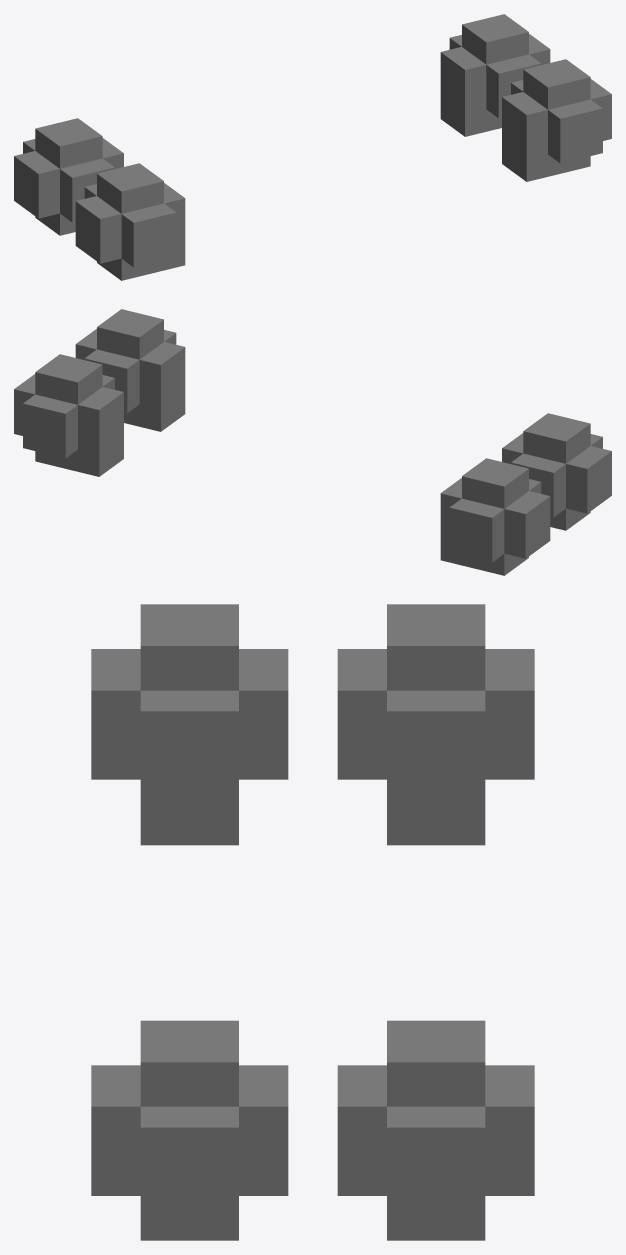
File: Extra-2-Warship_SmallShafts.obj
3 renders of one model, top to bottom at view 1: azimuth 30°, elevation 25°; view 2: azimuth 150°, elevation 25°; view 3: azimuth 270°, elevation 25°, orthographic. The views are drawn at different scales.
Parts seen in each view (by area): view 1: Warship_SmallShafts; view 2: Warship_SmallShafts; view 3: Warship_SmallShafts.
Part boxes in pixels (x1,y1,x2,y2): Warship_SmallShafts: (14, 14, 611, 280); Warship_SmallShafts: (14, 309, 611, 575); Warship_SmallShafts: (91, 604, 534, 1240).
Size of the model in its own units: 2.4 by 0.4 by 0.9.
Materials: 1 (1 with a texture image).
